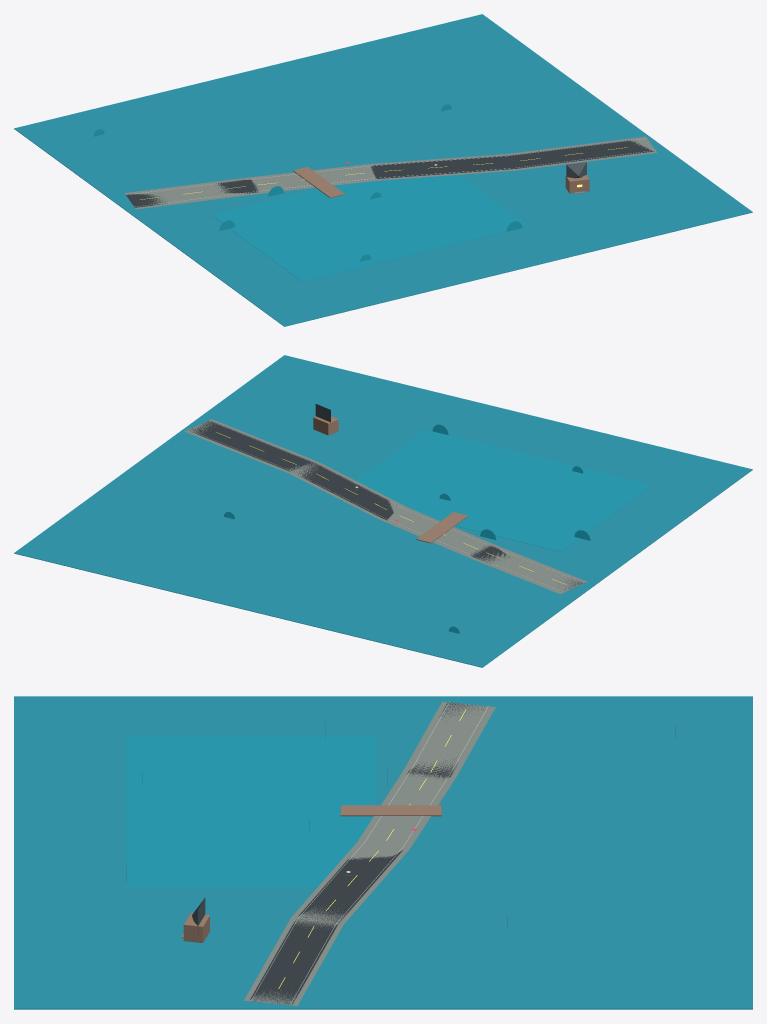
File: lake_aurora.glb
3 views of the same model, one above another, from view 1: azimuth 30°, elevation 25°; view 2: azimuth 150°, elevation 25°; view 3: azimuth 270°, elevation 25° (orthographic). The views are drawn at different scales.
Visible parts, largest first — view 1: LAKE AURORA sector ground, LAKE AURORA water basin, LAKE AURORA regional road shoulder, LAKE AURORA regional road, LAKE AURORA dock; view 2: LAKE AURORA sector ground, LAKE AURORA water basin, LAKE AURORA regional road shoulder, LAKE AURORA regional road, LAKE AURORA dock; view 3: LAKE AURORA sector ground, LAKE AURORA water basin, LAKE AURORA regional road shoulder, LAKE AURORA regional road, LAKE AURORA dock, mountain cabin body.012.
Part boxes in pixels (bbox=[...]): LAKE AURORA sector ground: bbox=[14, 14, 752, 326]; LAKE AURORA water basin: bbox=[211, 175, 528, 281]; LAKE AURORA regional road shoulder: bbox=[124, 136, 656, 209]; LAKE AURORA regional road: bbox=[126, 140, 654, 207]; LAKE AURORA dock: bbox=[293, 167, 344, 198]; LAKE AURORA sector ground: bbox=[14, 355, 752, 667]; LAKE AURORA water basin: bbox=[356, 429, 652, 551]; LAKE AURORA regional road shoulder: bbox=[184, 419, 587, 594]; LAKE AURORA regional road: bbox=[188, 420, 584, 591]; LAKE AURORA dock: bbox=[416, 512, 467, 543]; LAKE AURORA sector ground: bbox=[14, 696, 752, 1009]; LAKE AURORA water basin: bbox=[126, 735, 375, 886]; LAKE AURORA regional road shoulder: bbox=[244, 701, 495, 1005]; LAKE AURORA regional road: bbox=[250, 702, 489, 1004]; LAKE AURORA dock: bbox=[340, 805, 441, 816]; mountain cabin body.012: bbox=[183, 913, 209, 942].
Bounding box in the file's own units: 190 × 12.83 × 190.
